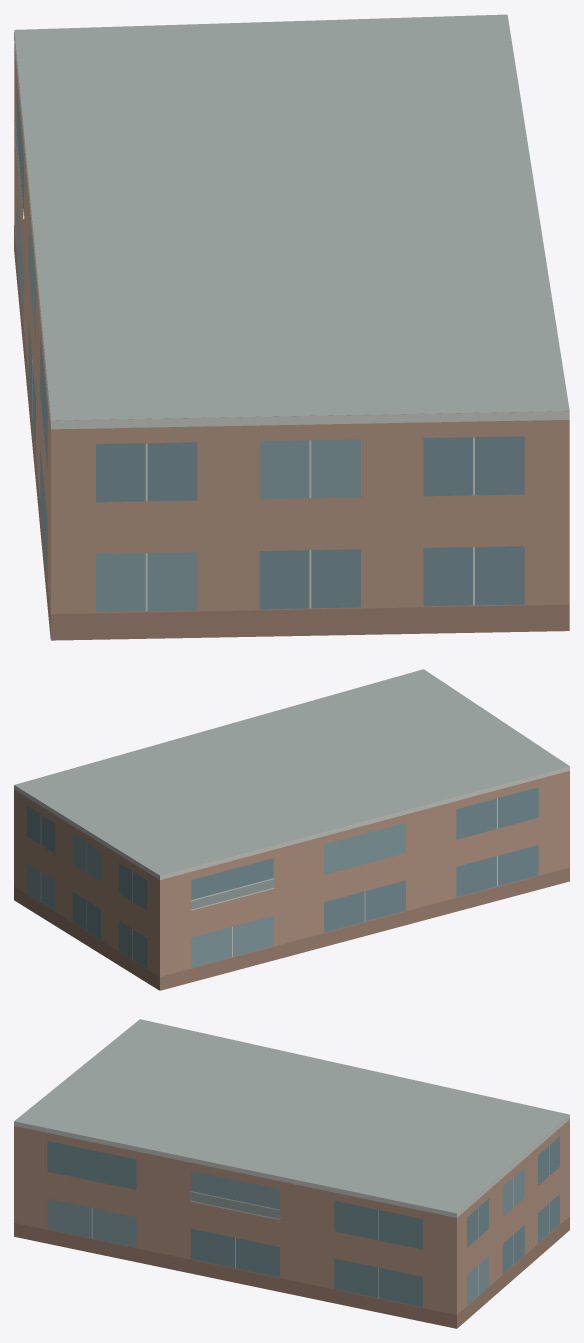
Rendered from survey-upis-32884557.glb.
3 renders of one model, top to bottom at view 1: azimuth 30°, elevation 25°; view 2: azimuth 150°, elevation 25°; view 3: azimuth 270°, elevation 25°, orthographic. The views are drawn at different scales.
Parts seen in each view (by area): view 1: survey-upis-32884557.tmp; view 2: survey-upis-32884557.tmp; view 3: survey-upis-32884557.tmp.
Boxes of the visible parts, <box> form: survey-upis-32884557.tmp: <box>14,14,569,640</box>; survey-upis-32884557.tmp: <box>14,669,569,990</box>; survey-upis-32884557.tmp: <box>14,1019,569,1328</box>.
Bounding box in the file's own units: 22.03 × 6.1 × 26.63.
